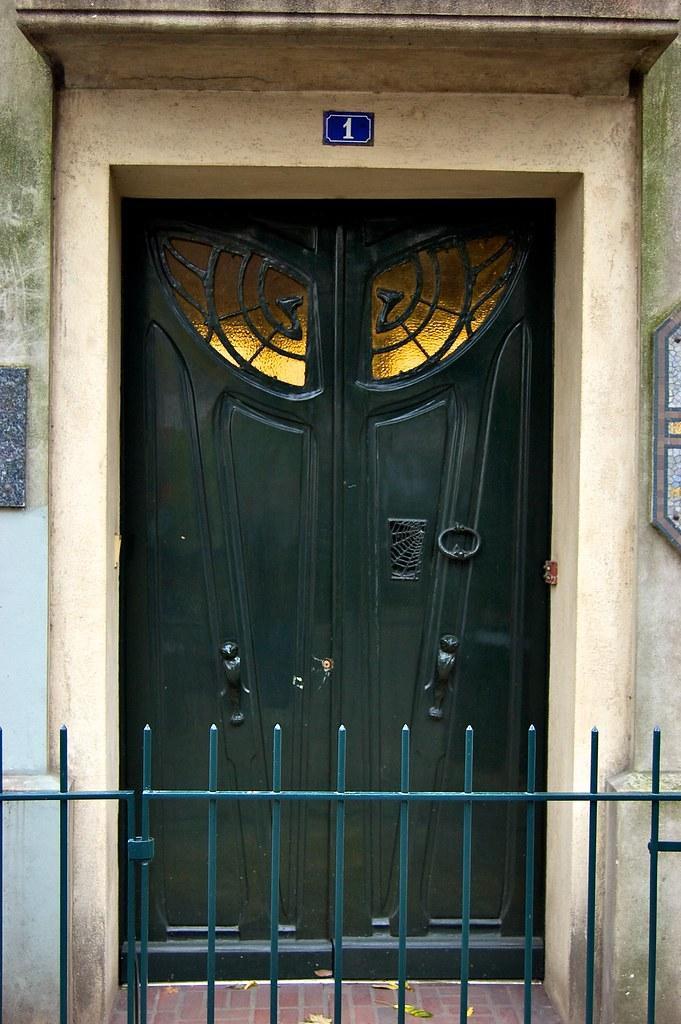door: (119, 197, 553, 958)
